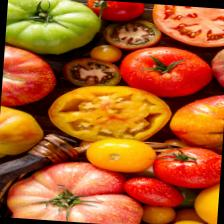tomato: (4, 155, 146, 224), (117, 42, 214, 98), (150, 142, 222, 190), (121, 174, 185, 208), (84, 0, 143, 22)
